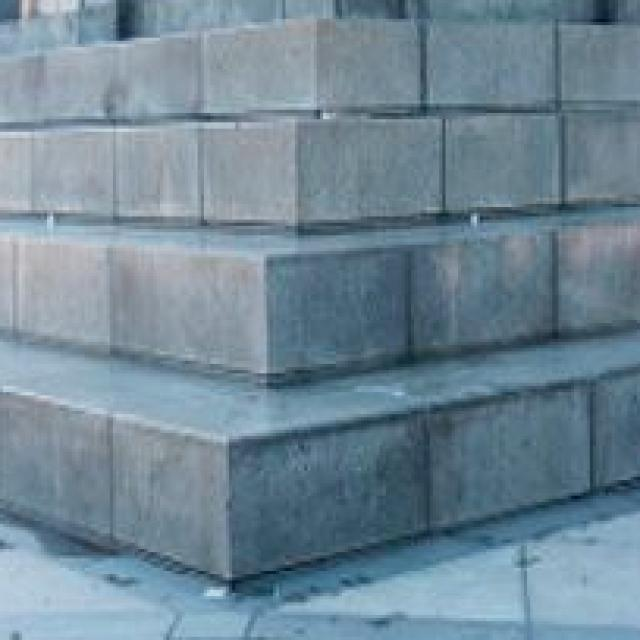upstair: (54, 17, 553, 349)
